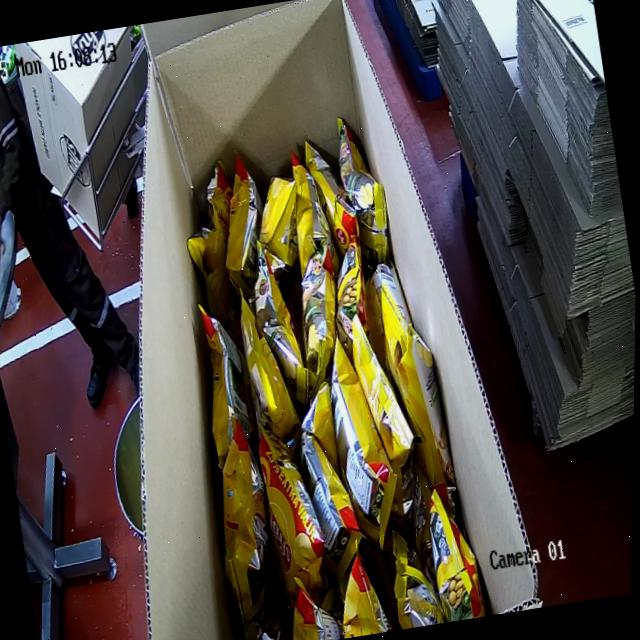SALTED: (158, 116, 504, 640)
